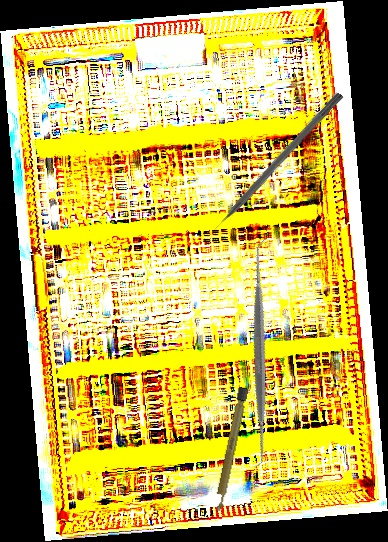Pusher: (202, 90, 344, 241)
Scalpel Handle: (212, 386, 249, 514)
Spatula Surgical: (144, 237, 376, 469)
